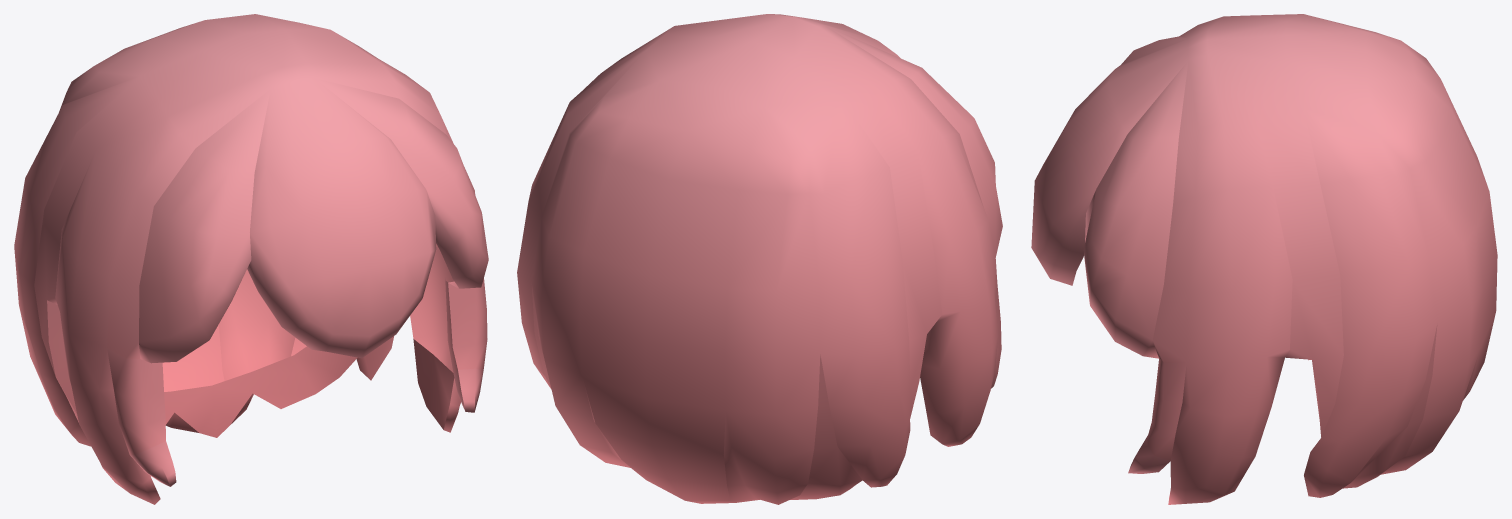
File: hair01.fbx
3 renders of one model, left to right at view 1: azimuth 30°, elevation 25°; view 2: azimuth 150°, elevation 25°; view 3: azimuth 270°, elevation 25°, orthographic. The views are drawn at different scales.
Visible parts, largest first — view 1: HairFemale_3; view 2: HairFemale_3; view 3: HairFemale_3.
Boxes of the visible parts, <box> form: HairFemale_3: <box>14,14,488,504</box>; HairFemale_3: <box>517,14,1002,504</box>; HairFemale_3: <box>1031,14,1497,504</box>.
Bounding box in the file's own units: 73.28 × 72.94 × 71.83.
